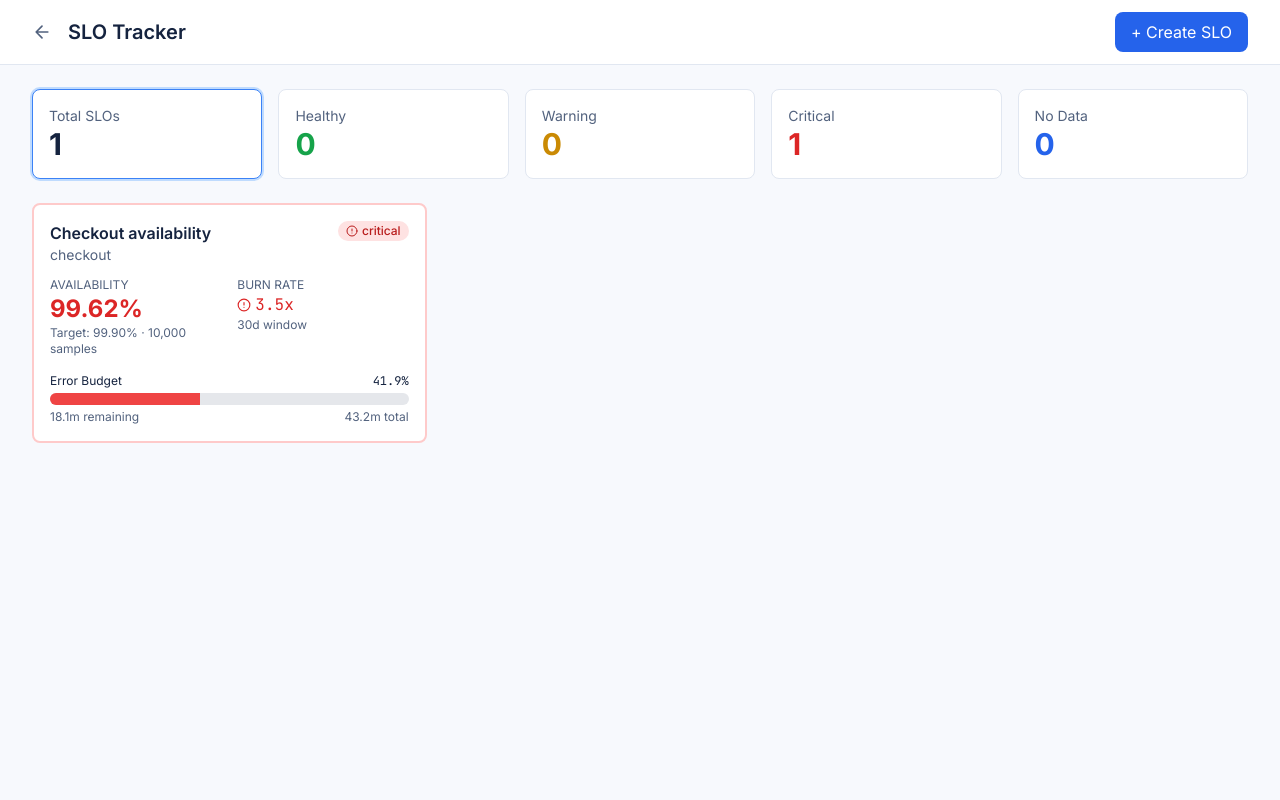
it: SLO detail panel actions › loads the burn-rate windows when asked for detailed metrics
This screenshot has width=1280, height=800.
What coordinates should you click on to do the following:
click the heading "Checkout availability"
I would click on:
 (131, 233)
Its box is [50, 221, 211, 245].
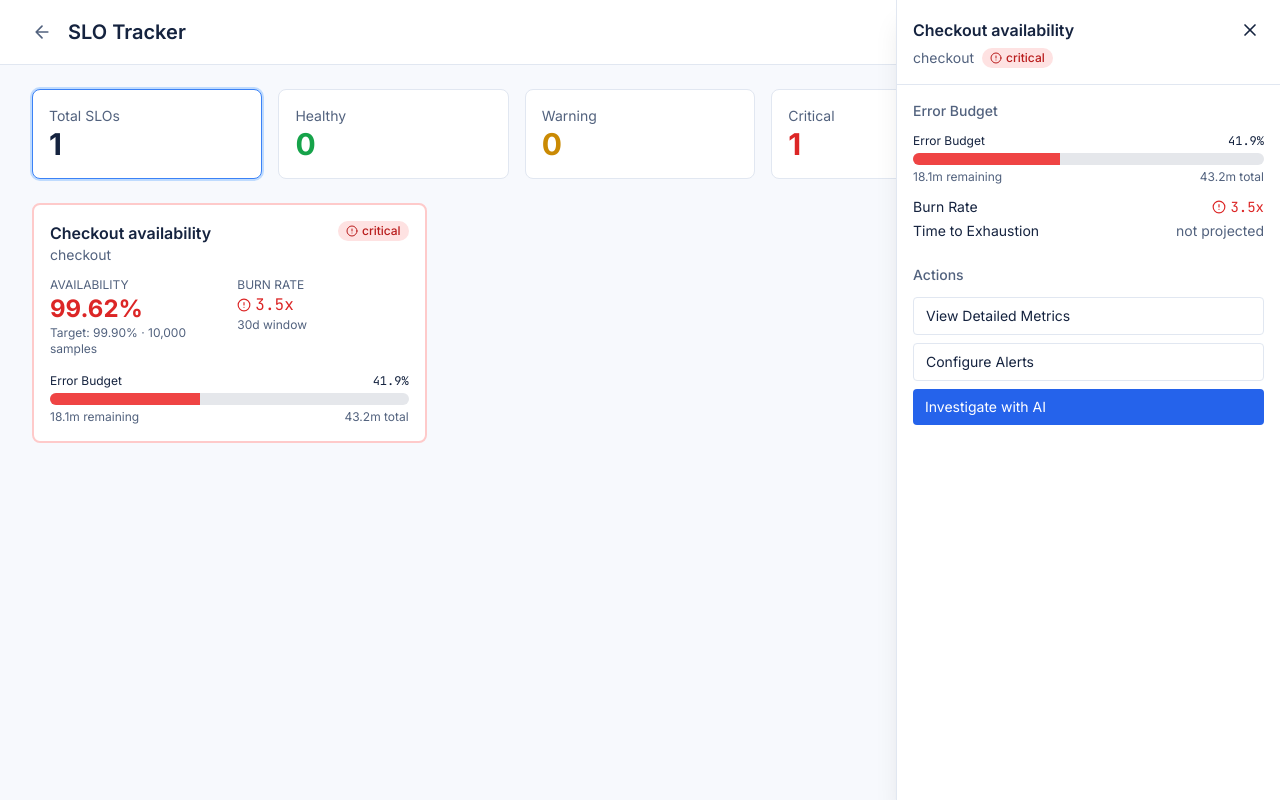
What coordinates should you click on to do the following:
click the button "View Detailed Metrics"
I would click on:
 (998, 316)
Its box is [913, 297, 1264, 335].
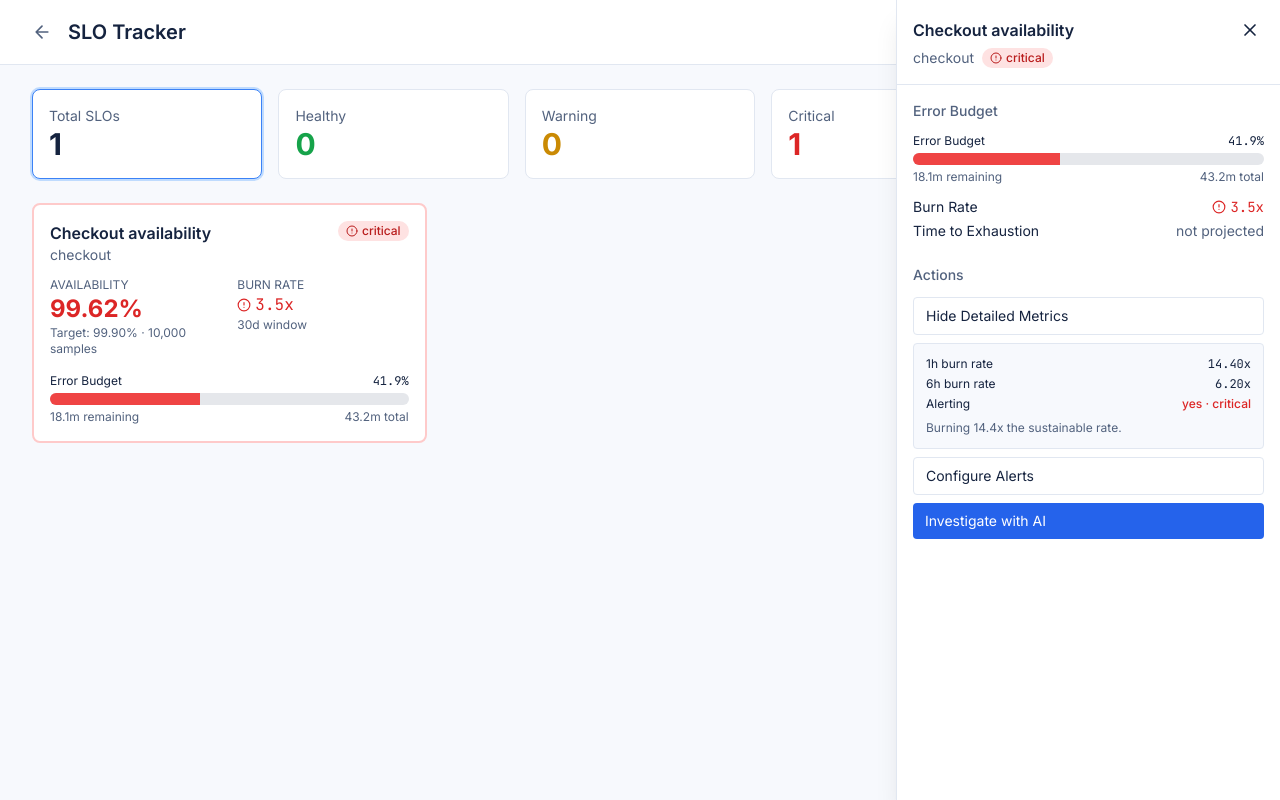
Now the text "14.40x" is shown, box [1208, 356, 1251, 372]
Now the text "6.20x" is shown, box [1215, 376, 1251, 392]
Now the text "yes · critical" is shown, box [1182, 396, 1251, 412]
